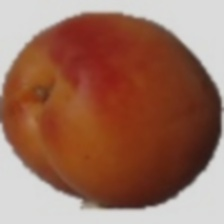apricot: (27, 60, 224, 205)
